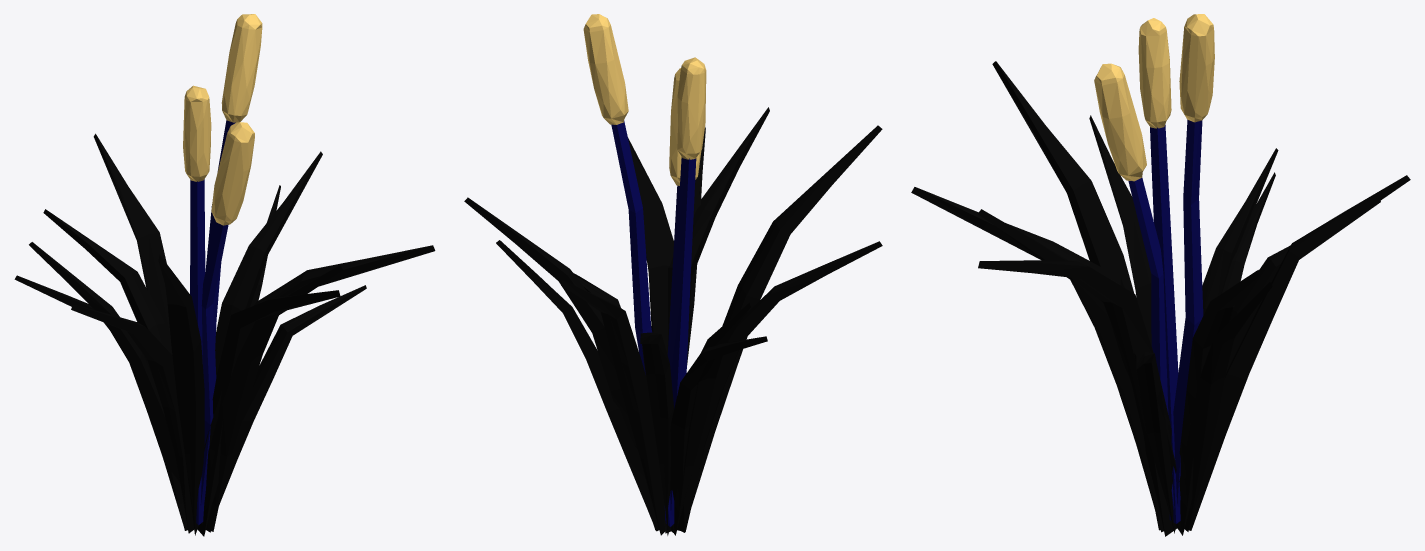
The model's file is PatchReed03.fbx.
The picture shows the model from 3 angles, left to right: view 1: azimuth 30°, elevation 25°; view 2: azimuth 150°, elevation 25°; view 3: azimuth 270°, elevation 25°; orthographic projection. The views are drawn at different scales.
Visible parts, largest first — view 1: Reed03; view 2: Reed03; view 3: Reed03.
Part boxes in pixels (x1=…): Reed03: x1=14, y1=14, x2=435, y2=536; Reed03: x1=464, y1=14, x2=882, y2=535; Reed03: x1=911, y1=14, x2=1410, y2=536.
Size of the model in its own units: 95.04 by 137 by 113.
